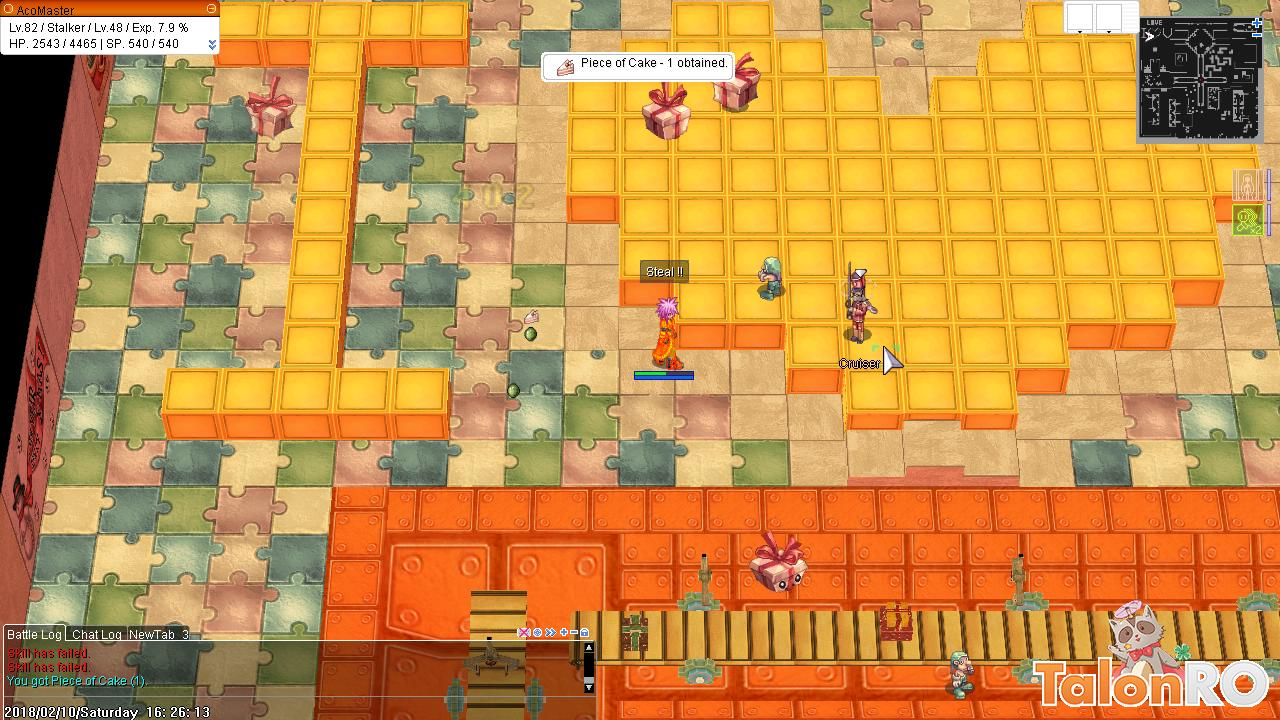loot: (519, 302, 544, 329), (501, 375, 520, 403), (521, 325, 539, 345)
mob: (839, 253, 881, 350)
myst_case: (747, 522, 811, 598), (240, 71, 296, 145), (640, 84, 696, 143), (715, 57, 765, 118)
